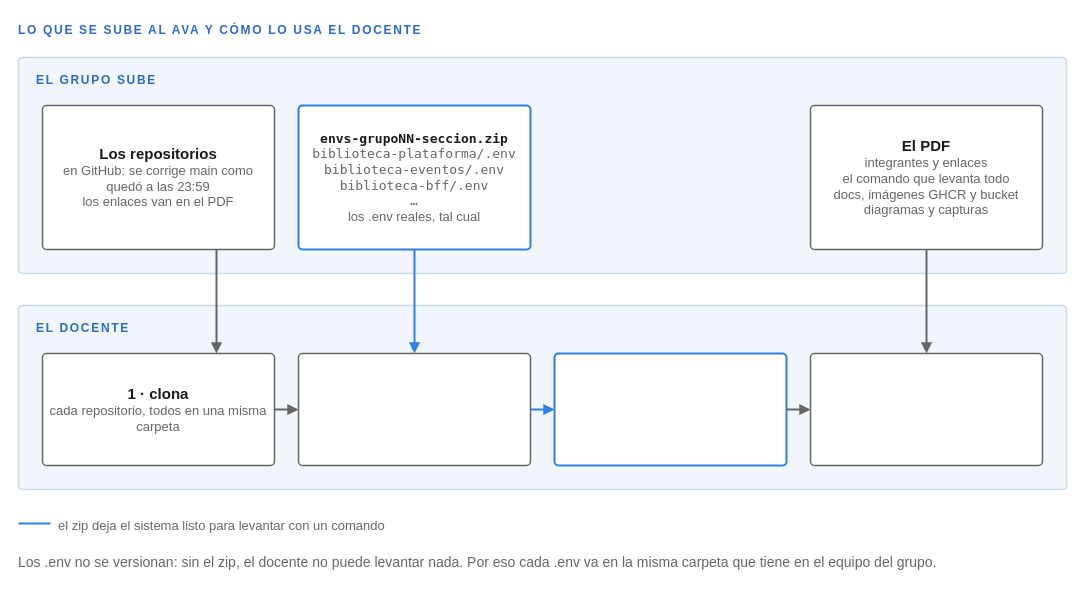
Image size: 1084x606. Some labels were removed from this diagram. Here are the shapes that lost their labels. From the top down, the centre of each, then its label:
point (414, 409): 2 · descomprime el zip en esa carpeta: cada .env cae en su repositorio
point (670, 409): 3 · levanta bash levantar.sh desde biblioteca-plataforma
point (926, 409): 4 · revisa el PDF: docs, imágenes y la evidencia de las nubes
